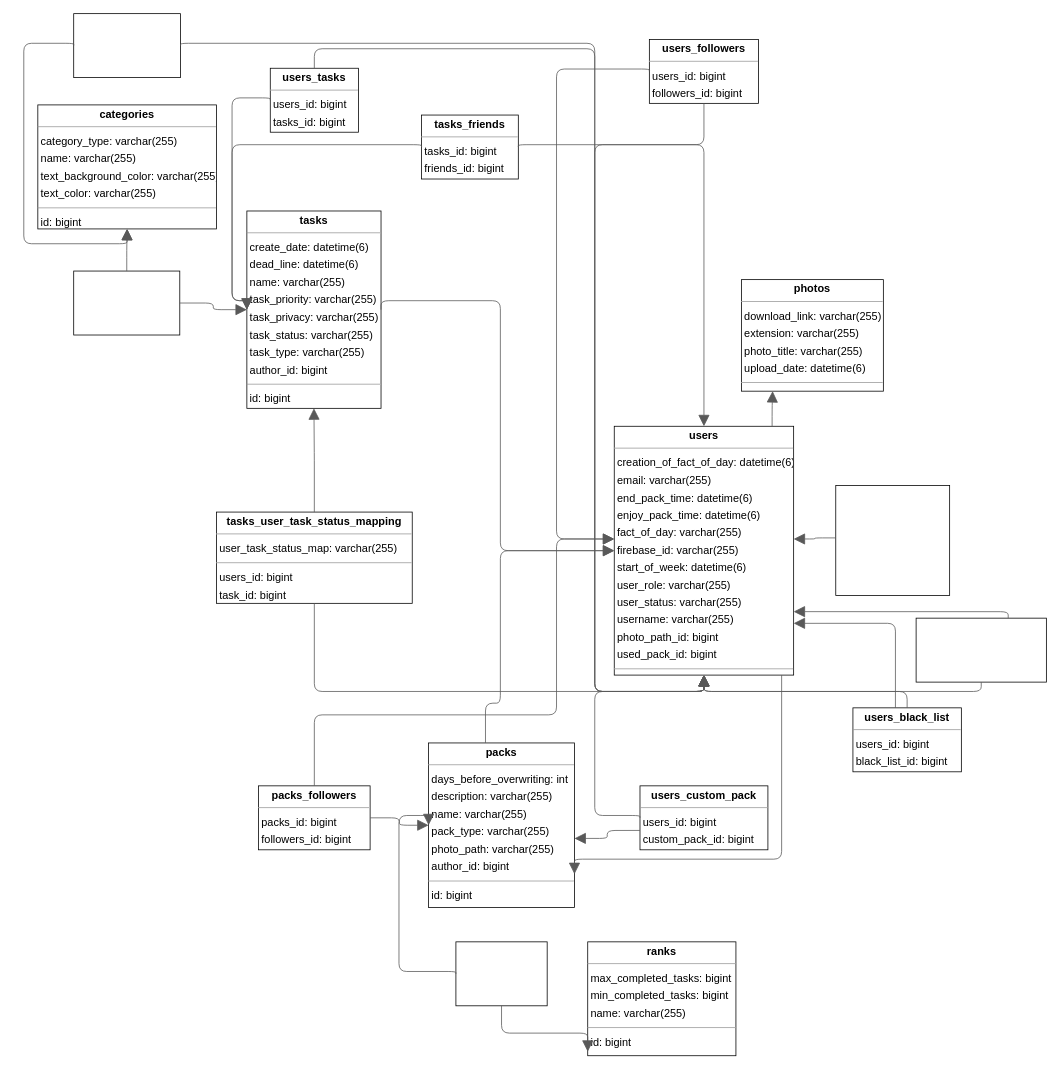
Some shapes in this 1060 by 1076 pixel diagram are drawn without their labels. The shapes that lost their labels are listed below. From the top down, each one's centre as x and y in pixels, then its label:
(127,45): users_category users_id: bigint category_id: bigint
(126,302): tasks_category tasks_id: bigint category_id: bigint
(892,540): client_app app_id: varchar(255) updated: datetime(6) user_id: bigint id: bigint
(980,649): users_subscriptions users_id: bigint subscriptions_id: bigint
(501,973): packs_ranks packs_id: bigint ranks_id: bigint
